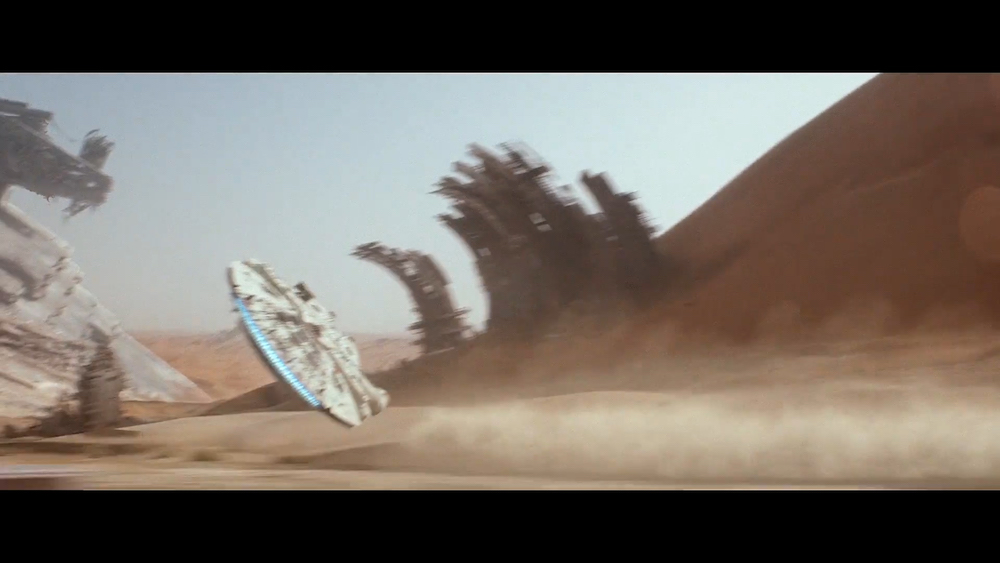Millennium Falcon: (223, 256, 392, 433)
